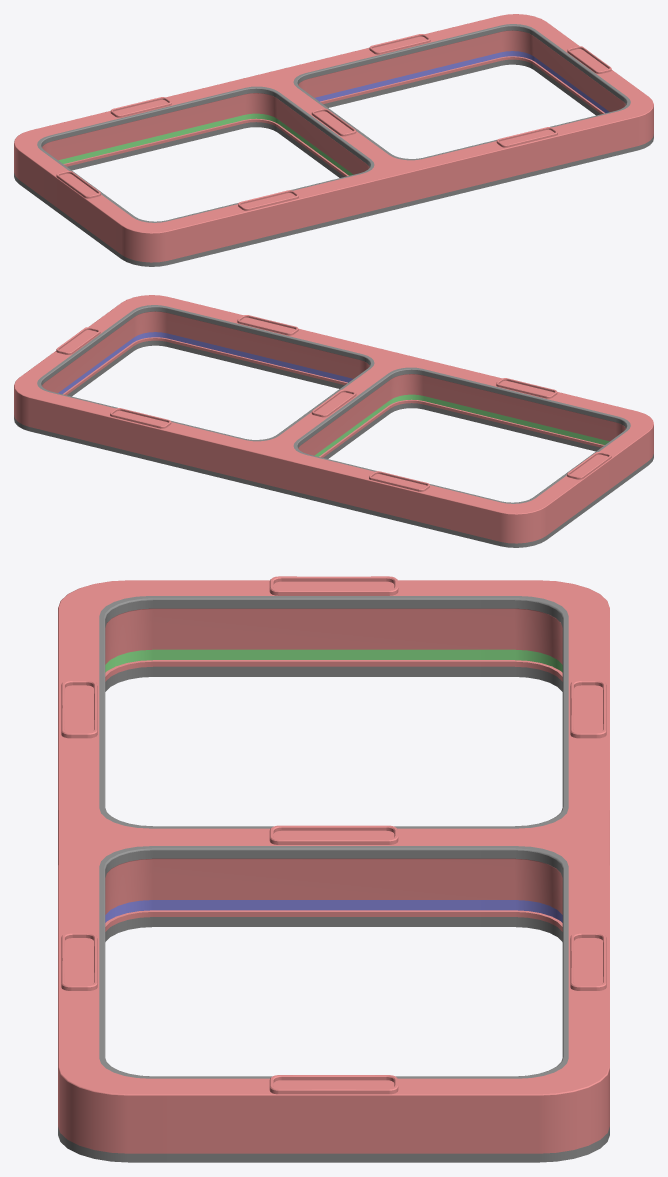
File: SpaceLaserRoomWalls_01.gltf
The picture shows the model from 3 angles, top to bottom: view 1: azimuth 30°, elevation 25°; view 2: azimuth 150°, elevation 25°; view 3: azimuth 270°, elevation 25°; orthographic projection. The views are drawn at different scales.
Parts seen in each view (by area): view 1: SpaceLaserRoomWalls_01; view 2: SpaceLaserRoomWalls_01; view 3: SpaceLaserRoomWalls_01.
Part boxes in pixels (bbox=[...]): SpaceLaserRoomWalls_01: bbox=[14, 14, 653, 266]; SpaceLaserRoomWalls_01: bbox=[14, 295, 653, 547]; SpaceLaserRoomWalls_01: bbox=[58, 576, 609, 1162].
Bounding box in the file's own units: 52.89 × 3.98 × 23.96.
